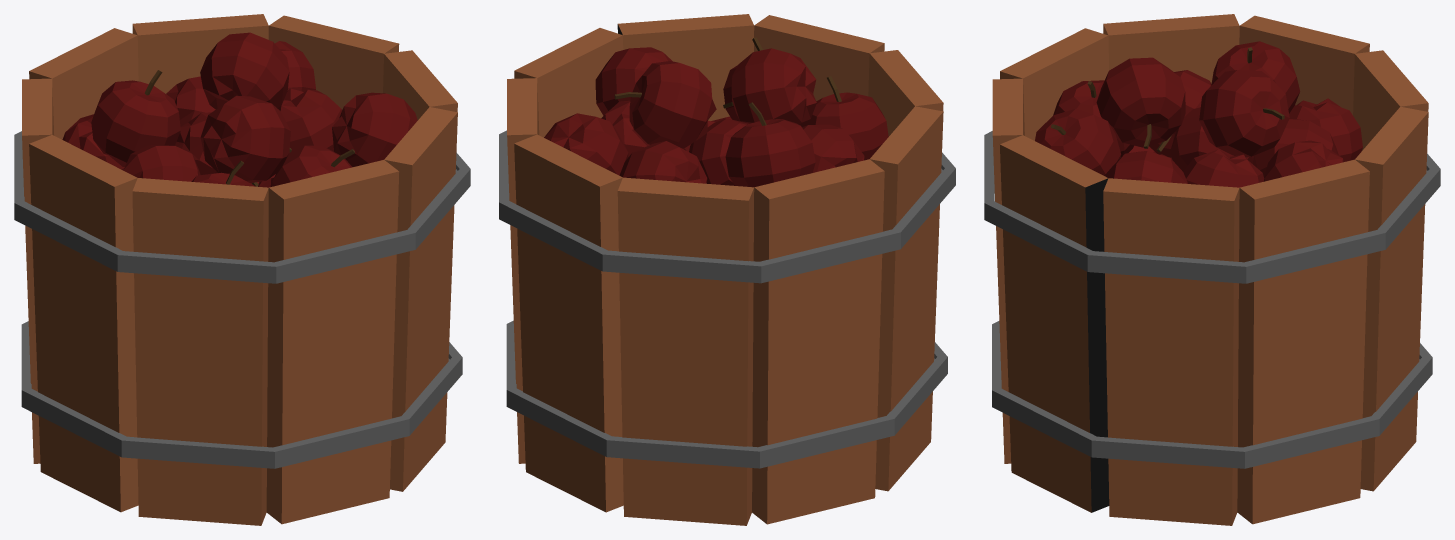
File: BarrelApples.fbx
3 renders of one model, left to right at view 1: azimuth 30°, elevation 25°; view 2: azimuth 150°, elevation 25°; view 3: azimuth 270°, elevation 25°, orthographic.
Parts seen in each view (by area): view 1: Cylinder.034; view 2: Cylinder.034; view 3: Cylinder.034.
Boxes of the visible parts, x1,y1,x2,y2 form: Cylinder.034: [14, 14, 470, 525]; Cylinder.034: [499, 14, 955, 525]; Cylinder.034: [984, 14, 1440, 525].
Bounding box in the file's own units: 67.21 × 60.83 × 66.19.
